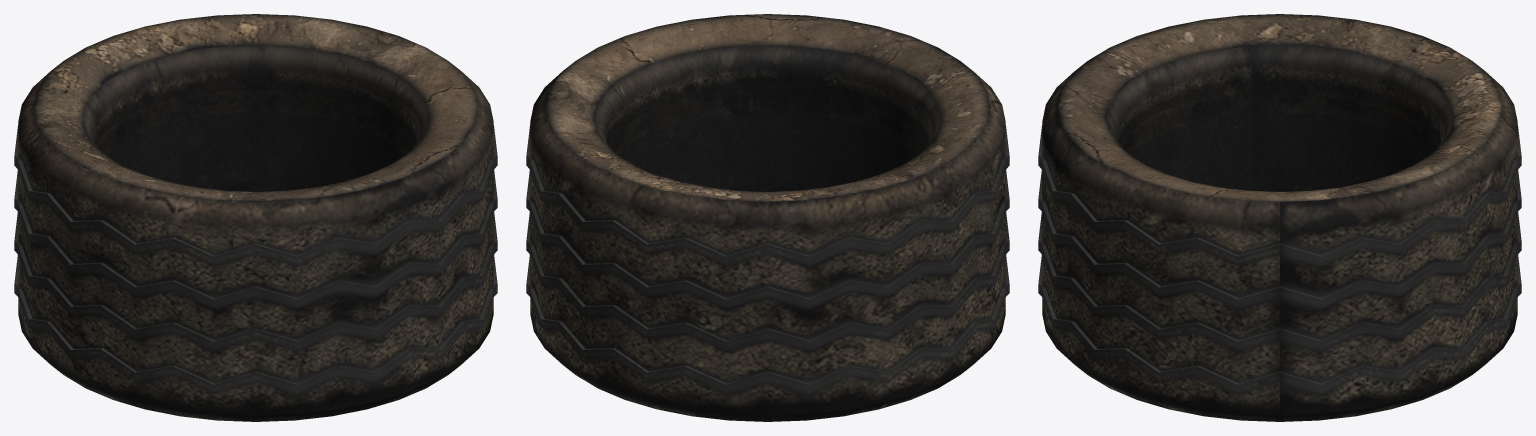
The model's file is Tire.fbx.
The picture shows the model from 3 angles, left to right: view 1: azimuth 30°, elevation 25°; view 2: azimuth 150°, elevation 25°; view 3: azimuth 270°, elevation 25°; orthographic projection.
Visible parts, largest first — view 1: TireWall; view 2: TireWall; view 3: TireWall.
Part boxes in pixels (x1,y1,x2,y2): TireWall: (14,14,497,421); TireWall: (526,14,1009,421); TireWall: (1038,14,1521,421).
Bounding box in the file's own units: 103 × 51.55 × 103.
1 material, 1 textured.
